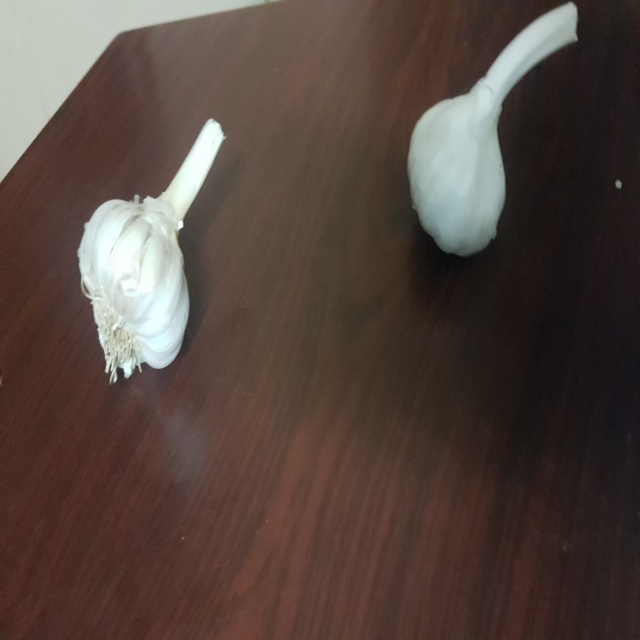garlic: (397, 4, 594, 264), (66, 105, 242, 392)
